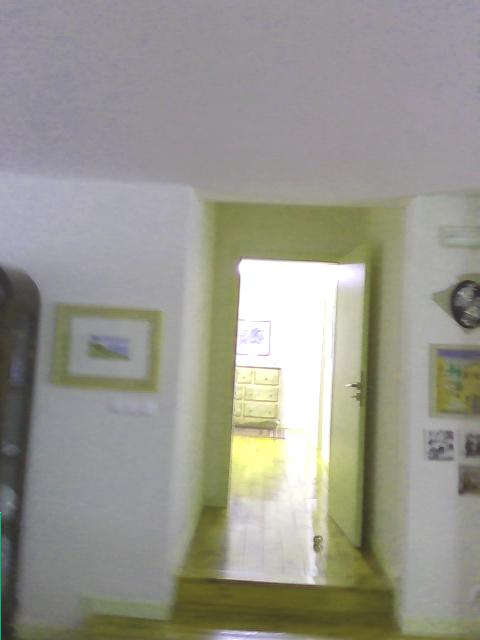open_door: (225, 255, 342, 526)
